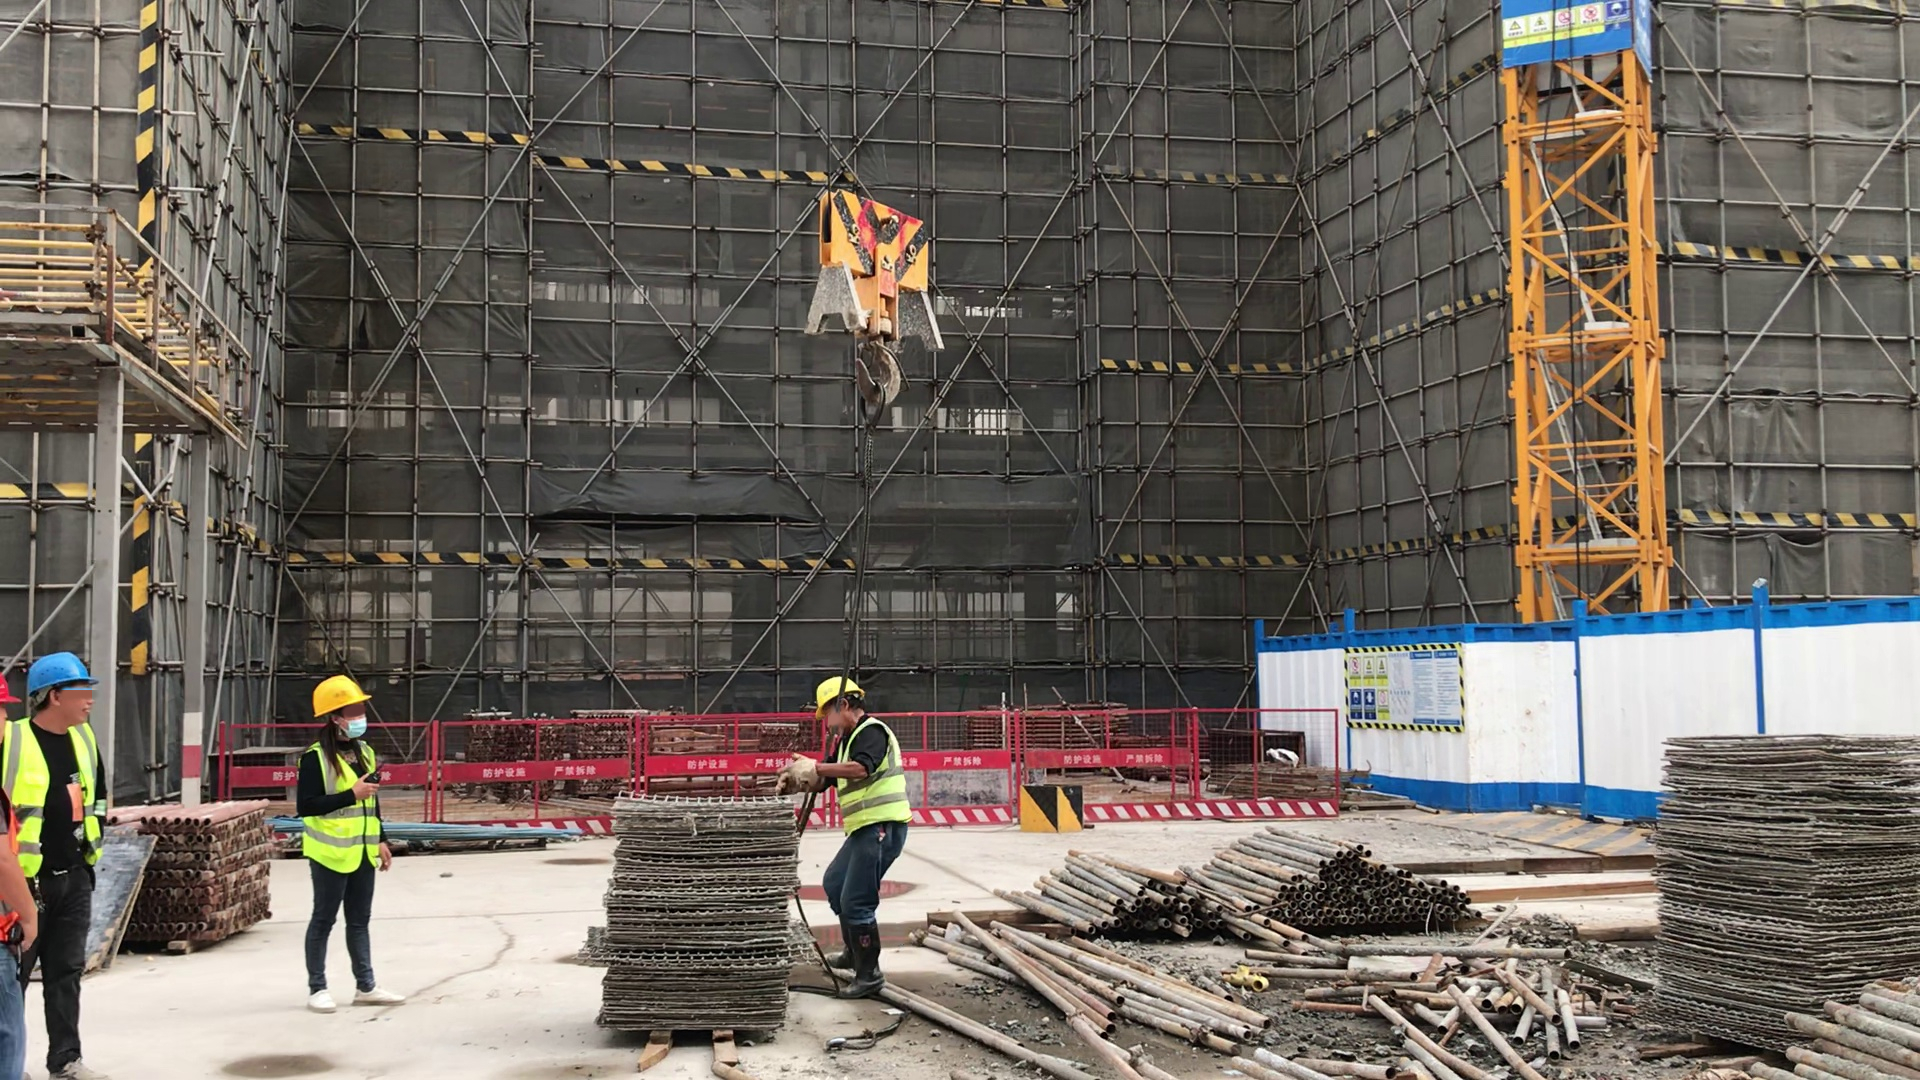fence: (1084, 704, 1340, 816), (389, 717, 617, 811), (926, 706, 1014, 830), (624, 705, 774, 776)
helmet: (26, 655, 98, 695), (309, 673, 374, 715), (810, 677, 863, 717), (1, 673, 20, 706)
hook: (802, 187, 952, 411)
person: (17, 652, 120, 1080), (788, 672, 917, 1002), (296, 672, 409, 1016), (1, 670, 43, 1080)
scaffold: (1217, 822, 1476, 935), (140, 798, 281, 948), (1000, 848, 1225, 941), (1736, 974, 1920, 1076)
slogan: (1347, 642, 1463, 735), (1503, 1, 1643, 67)
vest: (5, 718, 103, 872), (305, 738, 383, 873), (836, 719, 912, 830)
